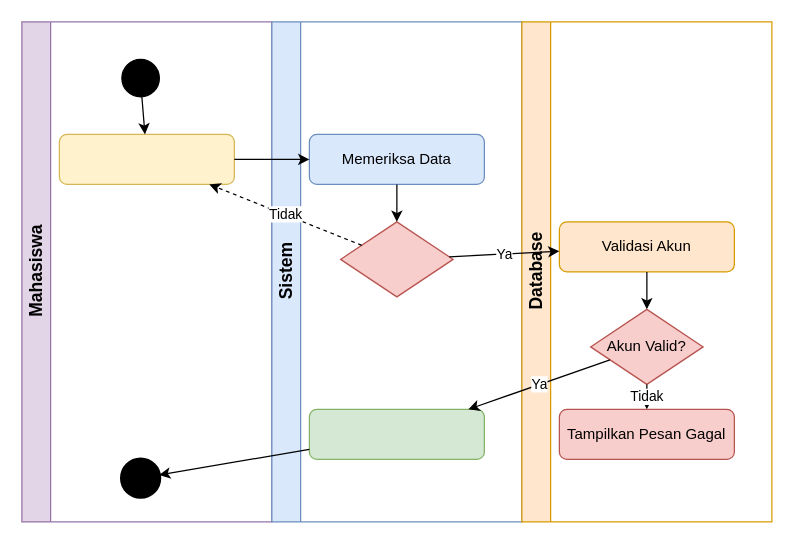
This 794x544 diagram has some shape labels left out. The shapes that lost their labels are listed below. From the top down, each one's centre as x and y in pixels, then its label:
point 146,158: Memasukkan NIM dan Password
point 396,259: Data Valid?
point 396,433: Tampilkan Dashboard Mahasiswa
